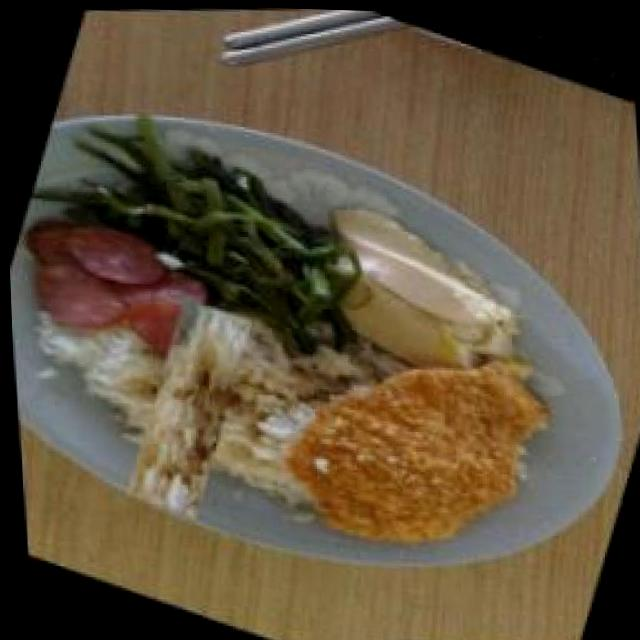chinese_sausage: (6, 193, 259, 389)
rice: (92, 312, 282, 501)
water_spinach: (78, 122, 334, 301)
